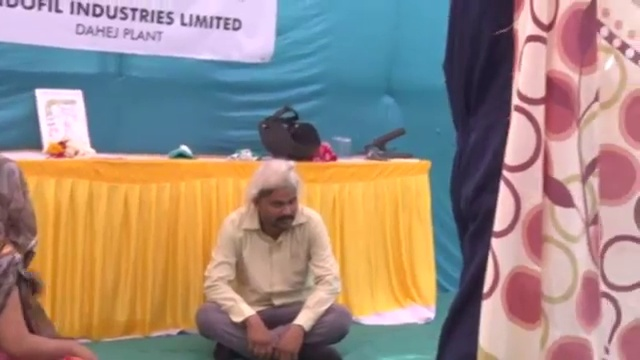helmet_off: (251, 163, 300, 233), (1, 155, 31, 256)
person: (195, 158, 352, 360), (435, 1, 521, 360), (1, 154, 99, 360)
